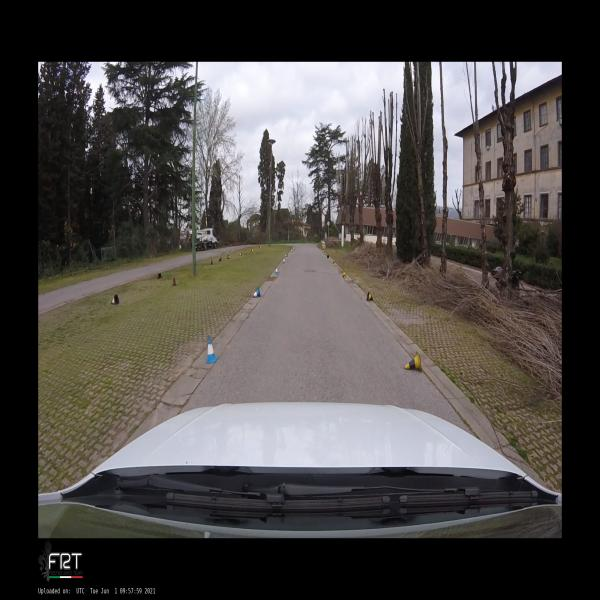blue_cone: (205, 338, 218, 363), (252, 288, 260, 297), (275, 267, 279, 274), (283, 258, 285, 262), (284, 254, 288, 256)
unknown_cone: (111, 294, 119, 304), (171, 276, 178, 286), (157, 273, 161, 279), (218, 257, 222, 261), (227, 254, 231, 258), (211, 258, 213, 264), (240, 253, 242, 255)
yellow_cone: (404, 351, 422, 372), (366, 291, 375, 301), (342, 272, 346, 279), (332, 260, 334, 265), (327, 255, 329, 258)
